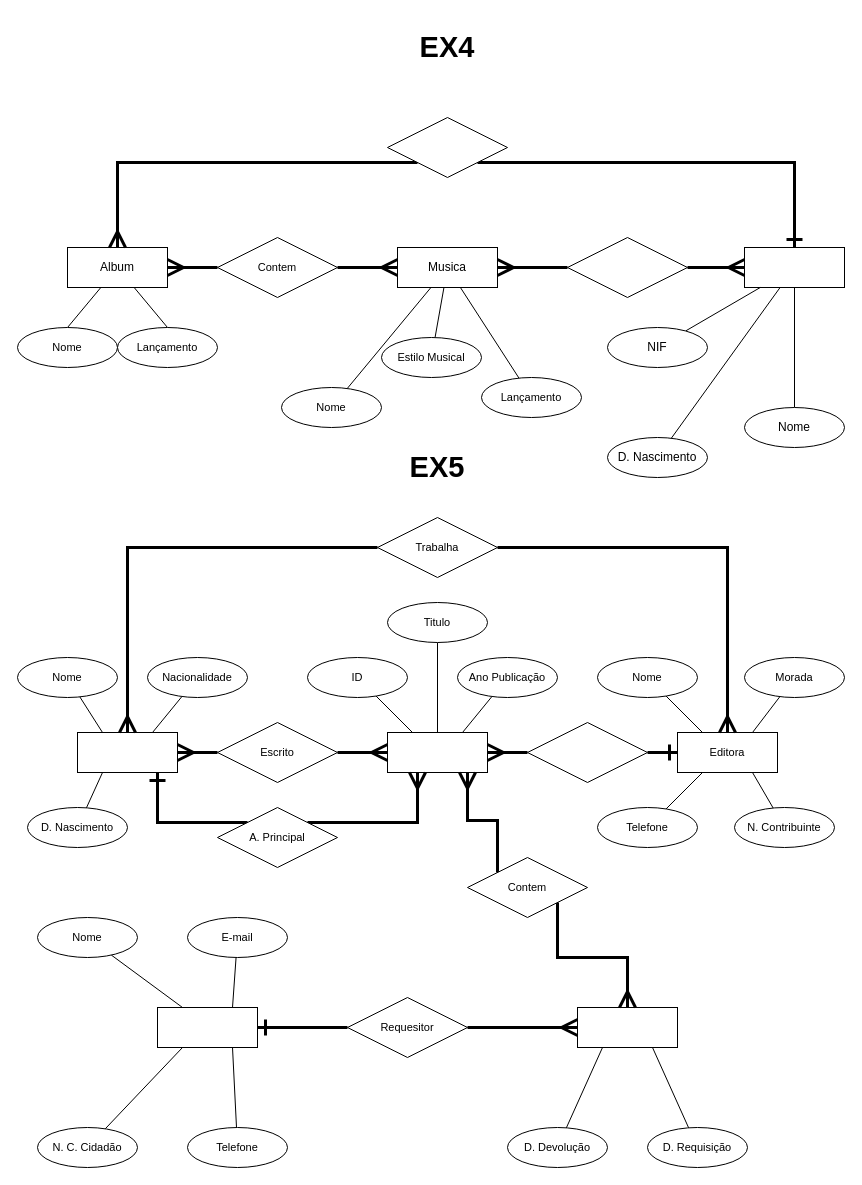
This 862x1185 diagram has some shape labels left out. The centre of each missing label's shape, as x and y in pixels:
Artistas: [794,267]
Autor: [127,752]
Compôs: [627,267]
Livro: [437,752]
Produzido: [447,147]
Publicado: [587,752]
Requisição: [627,1027]
Socio: [207,1027]
